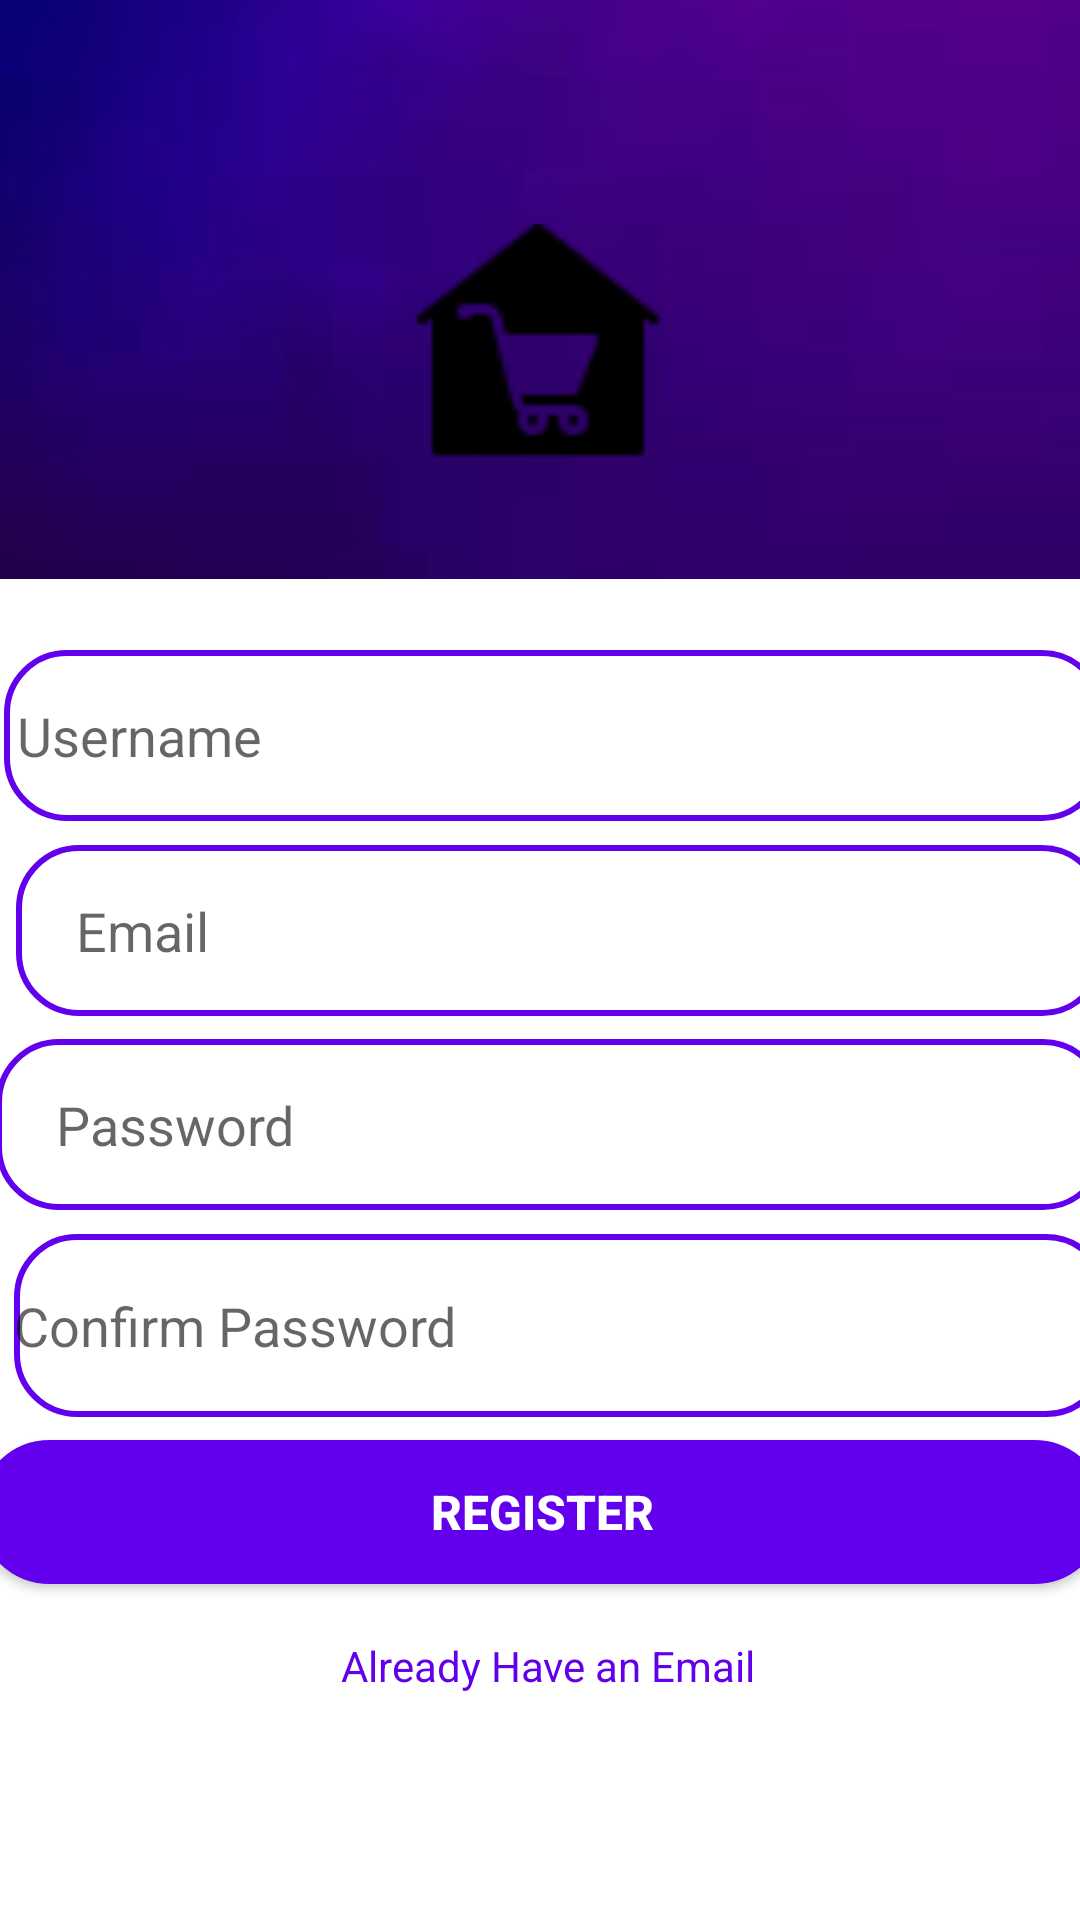

Locate icon controls on the screen. Image size 1080 x 1920, boxes as (x1=x1, y1=y1, x2=x2, y2=y2).
groc: (x1=416, y1=224, x2=660, y2=457)
